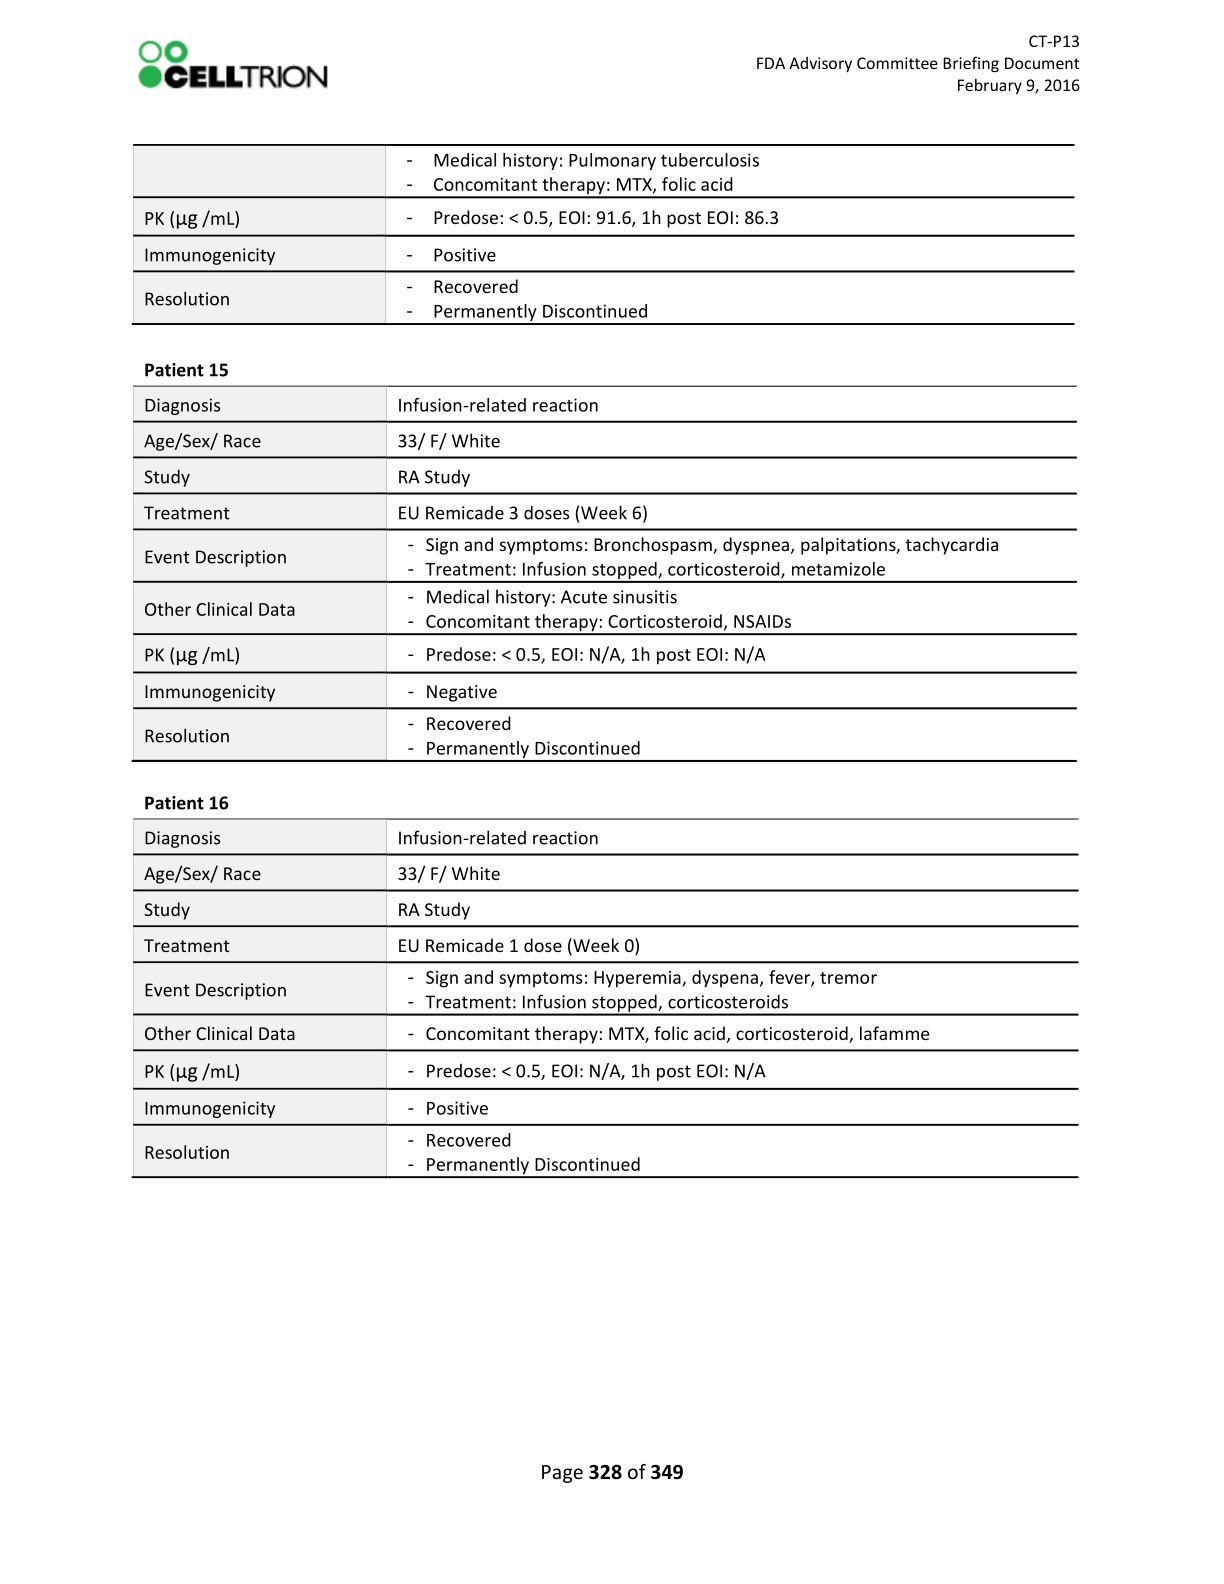partial_lined: (132, 384, 1077, 762), (132, 816, 1079, 1179), (132, 143, 1075, 327)
